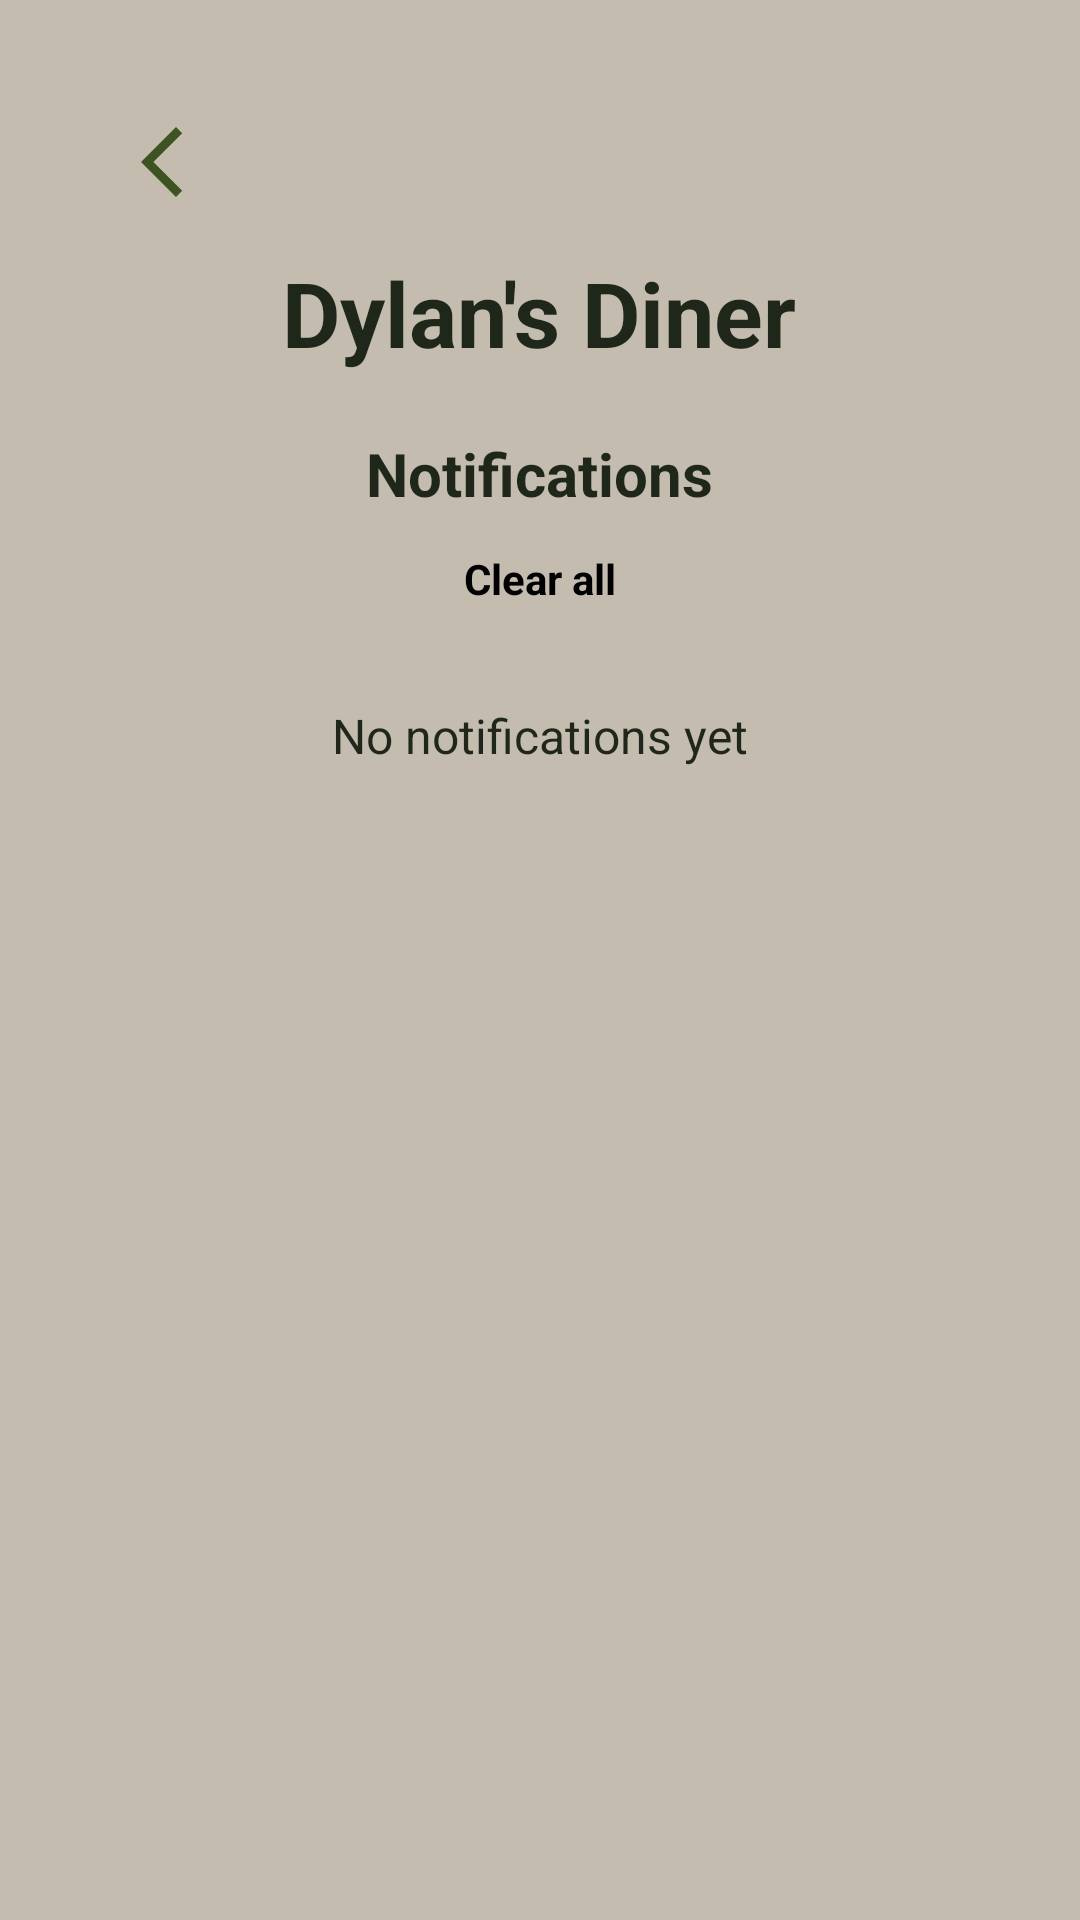

Locate icon controls on the screen. Image size 1080×1920, boxes as (x1, y1, x2, y2).
Back: (141, 127, 182, 197)
